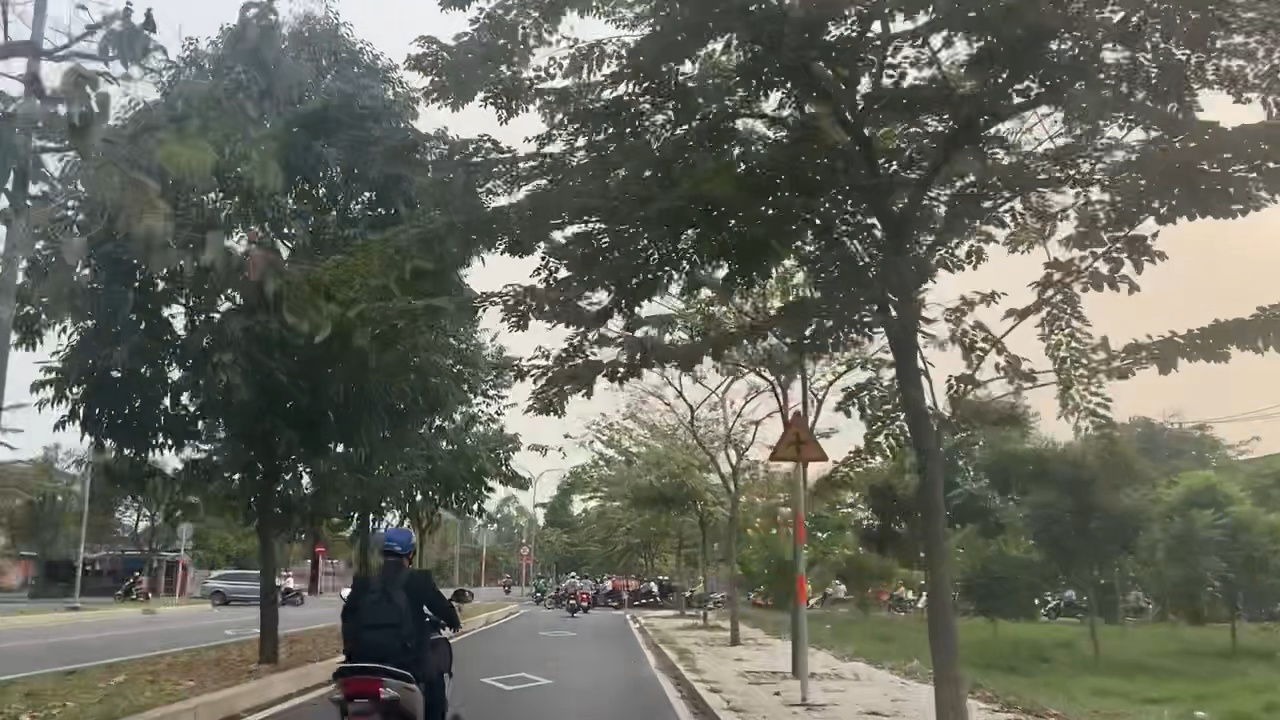giao_nhau_chu_thap: (762, 406, 832, 467)
